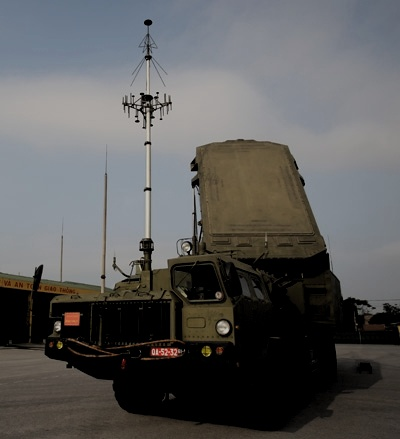plate: (150, 344, 179, 358)
